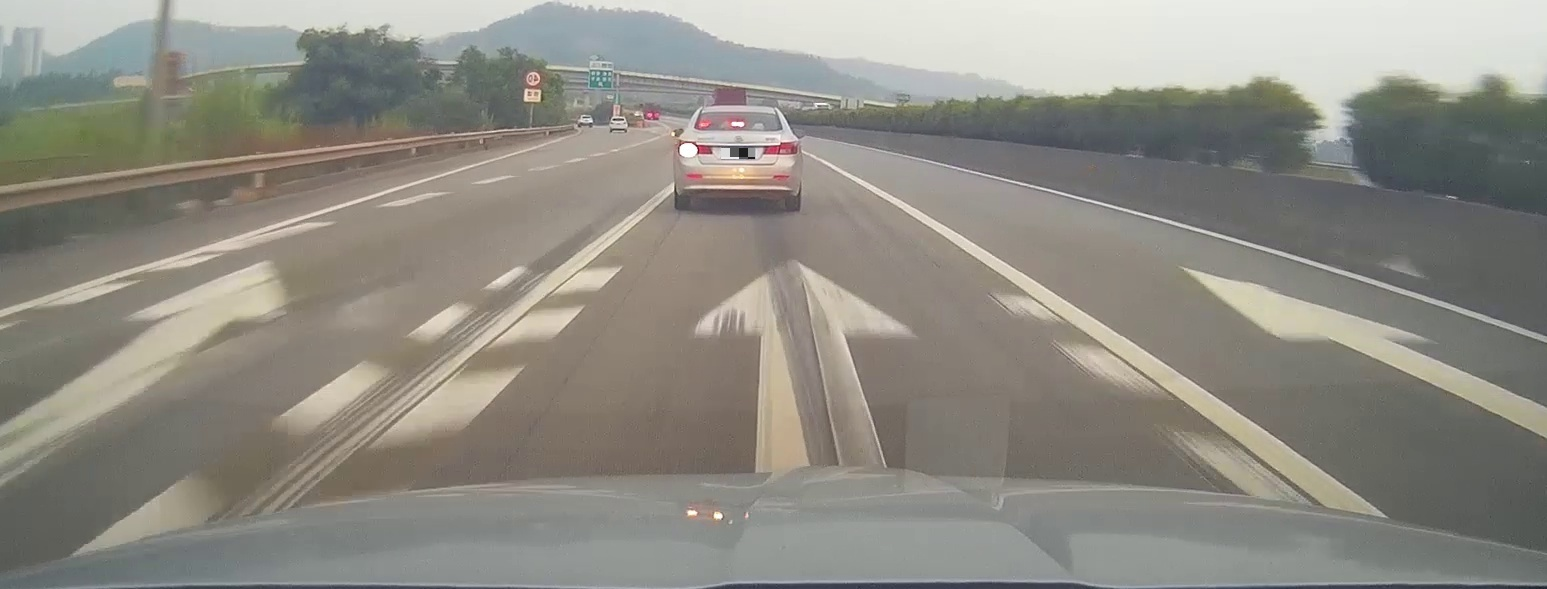L_light: (679, 141, 713, 158)
R_light: (763, 140, 799, 155)
T_light: (730, 120, 746, 128)
day-left: (673, 105, 802, 211)
plate_1: (721, 148, 755, 159)
